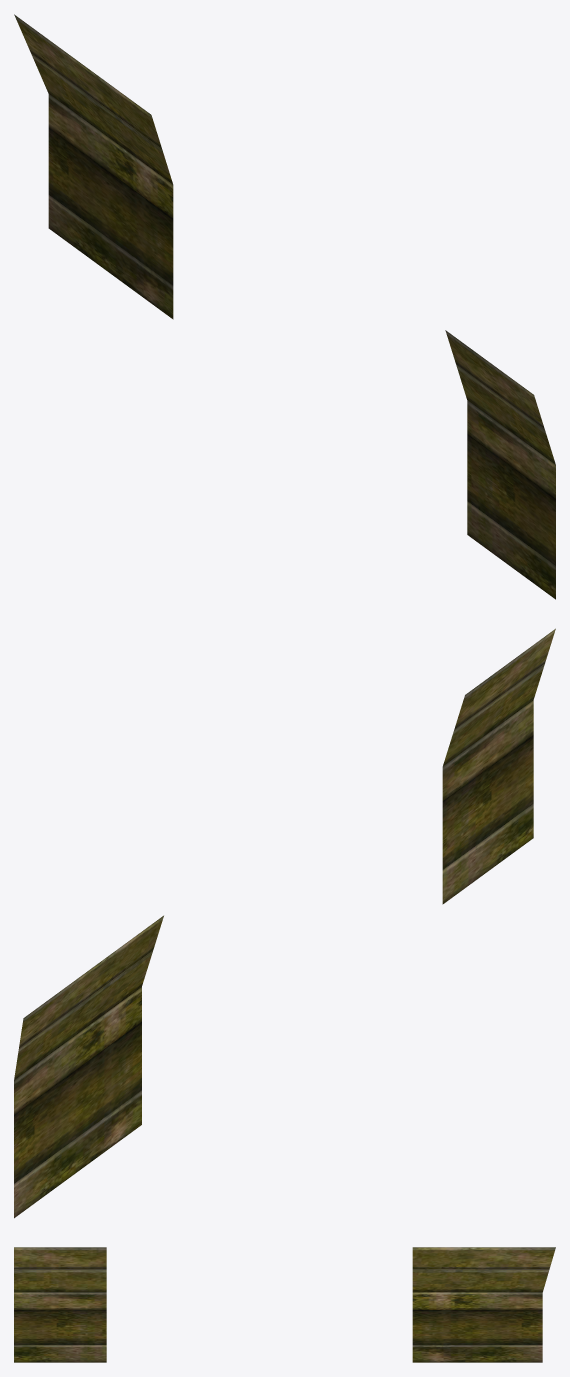
The model's file is OVERHILL_A_01_OBJECT127.fbx.
3 views of the same model, one above another, from view 1: azimuth 30°, elevation 25°; view 2: azimuth 150°, elevation 25°; view 3: azimuth 270°, elevation 25° (orthographic). The views are drawn at different scales.
Parts seen in each view (by area): view 1: OVERHILL_A_01_OBJECT127; view 2: OVERHILL_A_01_OBJECT127; view 3: OVERHILL_A_01_OBJECT127.
Boxes of the visible parts, <box> form: OVERHILL_A_01_OBJECT127: <box>14,14,555,599</box>; OVERHILL_A_01_OBJECT127: <box>14,628,555,1218</box>; OVERHILL_A_01_OBJECT127: <box>14,1247,555,1362</box>.
Bounding box in the file's own units: 1348 × 12361 × 55433.
Materials: 2 (2 with a texture image).
